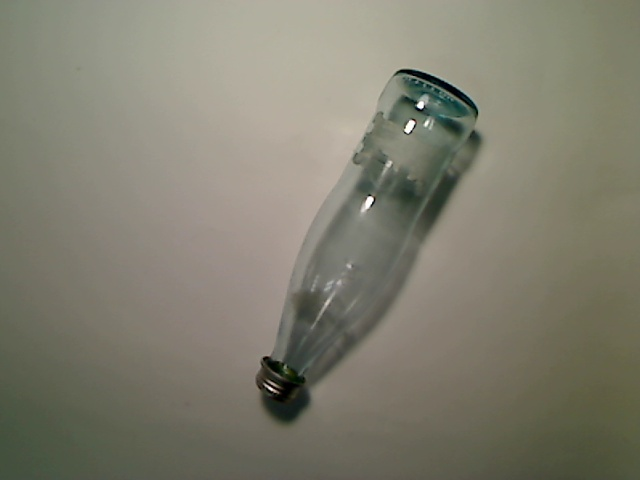bottle: (254, 68, 480, 405)
